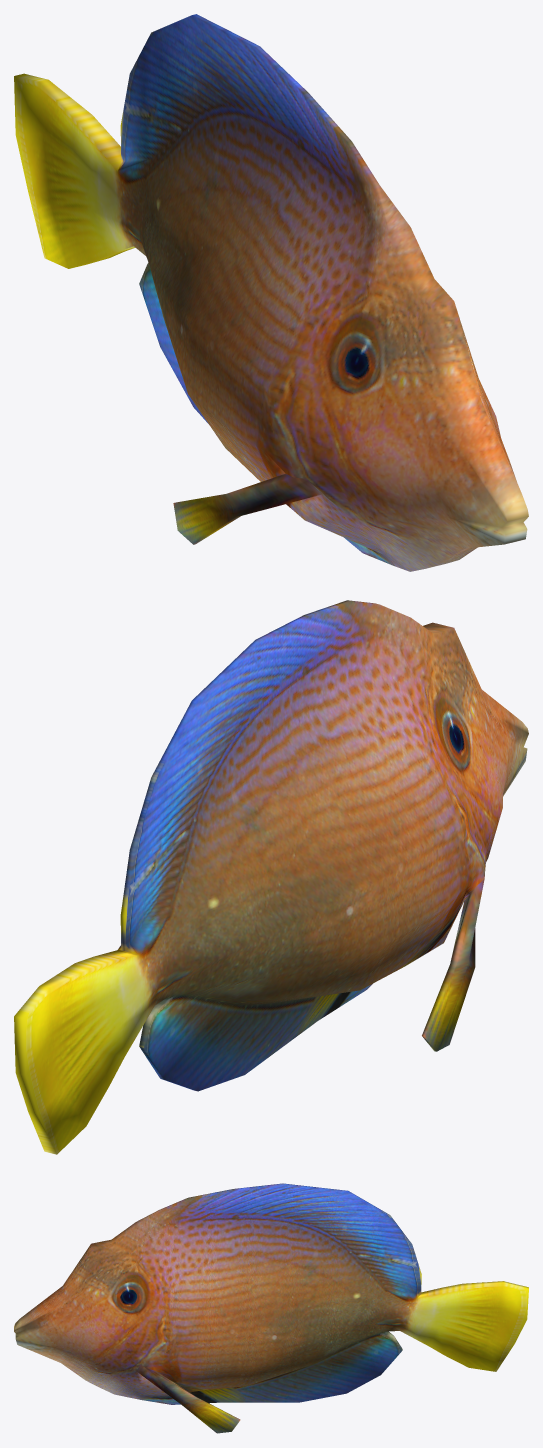
File: TropicalFish08.fbx
3 views of the same model, one above another, from view 1: azimuth 30°, elevation 25°; view 2: azimuth 150°, elevation 25°; view 3: azimuth 270°, elevation 25° (orthographic). The views are drawn at different scales.
Parts seen in each view (by area): view 1: TropicalFish08; view 2: TropicalFish08; view 3: TropicalFish08.
Part boxes in pixels (x1,y1,x2,y2): TropicalFish08: (14, 14, 528, 571); TropicalFish08: (14, 600, 528, 1154); TropicalFish08: (14, 1183, 528, 1433).
Bounding box in the file's own units: 147 × 486 × 230.
